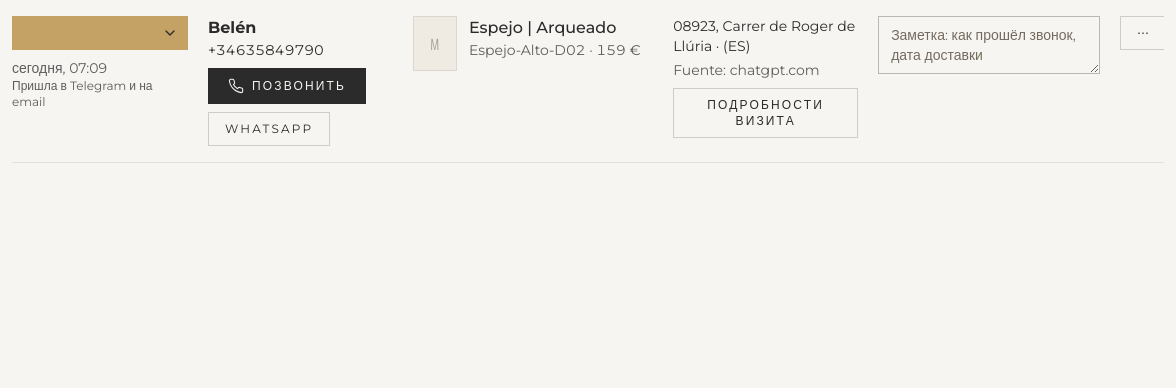
Test case: Подробности визита › reads the log only when asked, and tells the visit
Click the button "Подробности визита" at x=766, y=113, box [673,88,858,138]
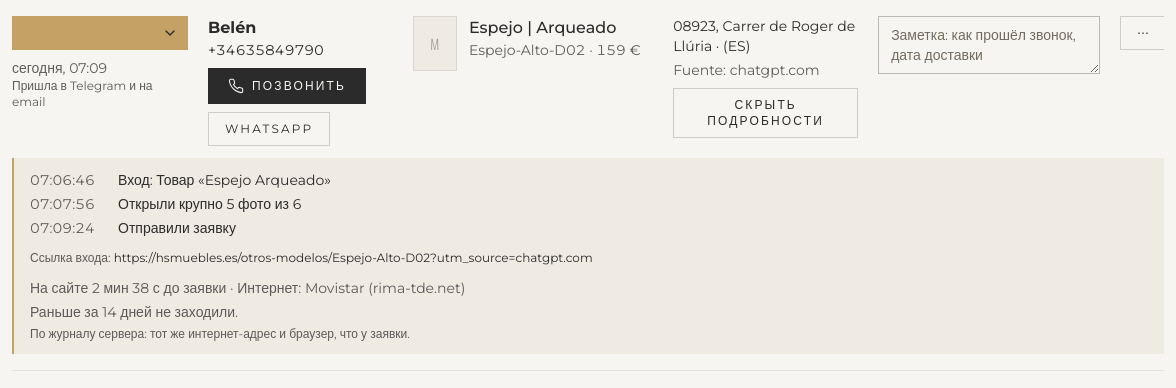
Expected: the button named "Подробности визита" is expanded, [673,88,858,138]
Expected: the text "Вход: Товар «Espejo Arqueado»" is shown, [118,170,331,190]
Expected: the text "07:06:46" is shown, [30,170,106,190]
